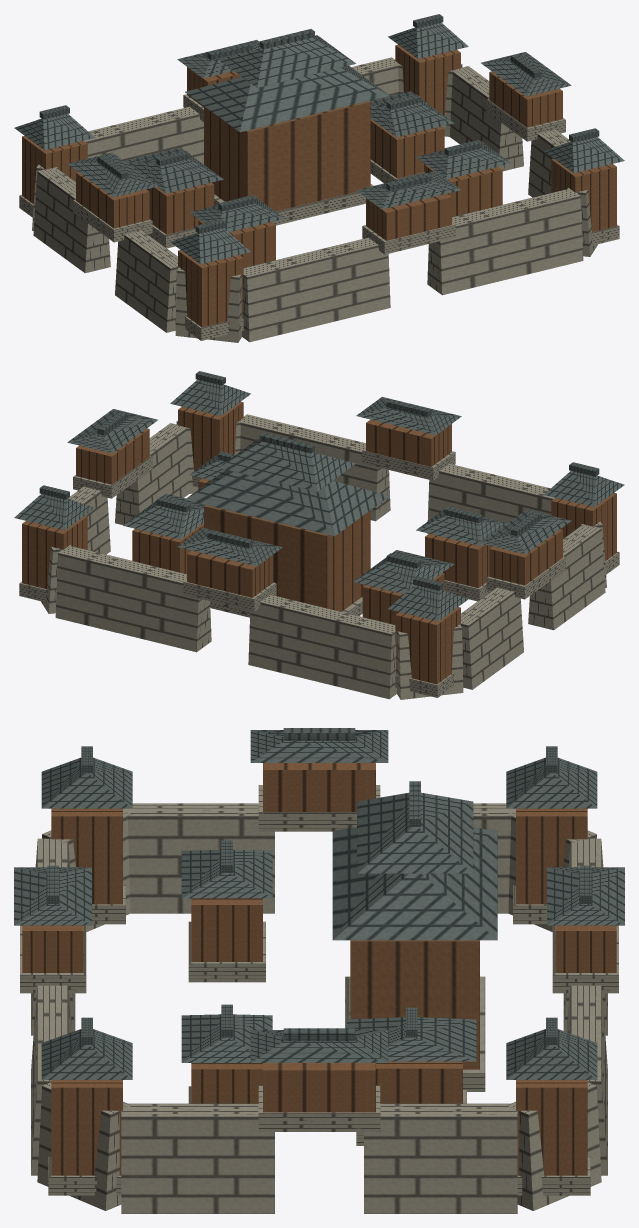
The model's file is city0-lod2.glb.
The picture shows the model from 3 angles, top to bottom: view 1: azimuth 30°, elevation 25°; view 2: azimuth 150°, elevation 25°; view 3: azimuth 270°, elevation 25°; orthographic projection. The views are drawn at different scales.
Size of the model in its own units: 2.31 by 0.821 by 1.79.
Materials: 1 (1 with a texture image).
